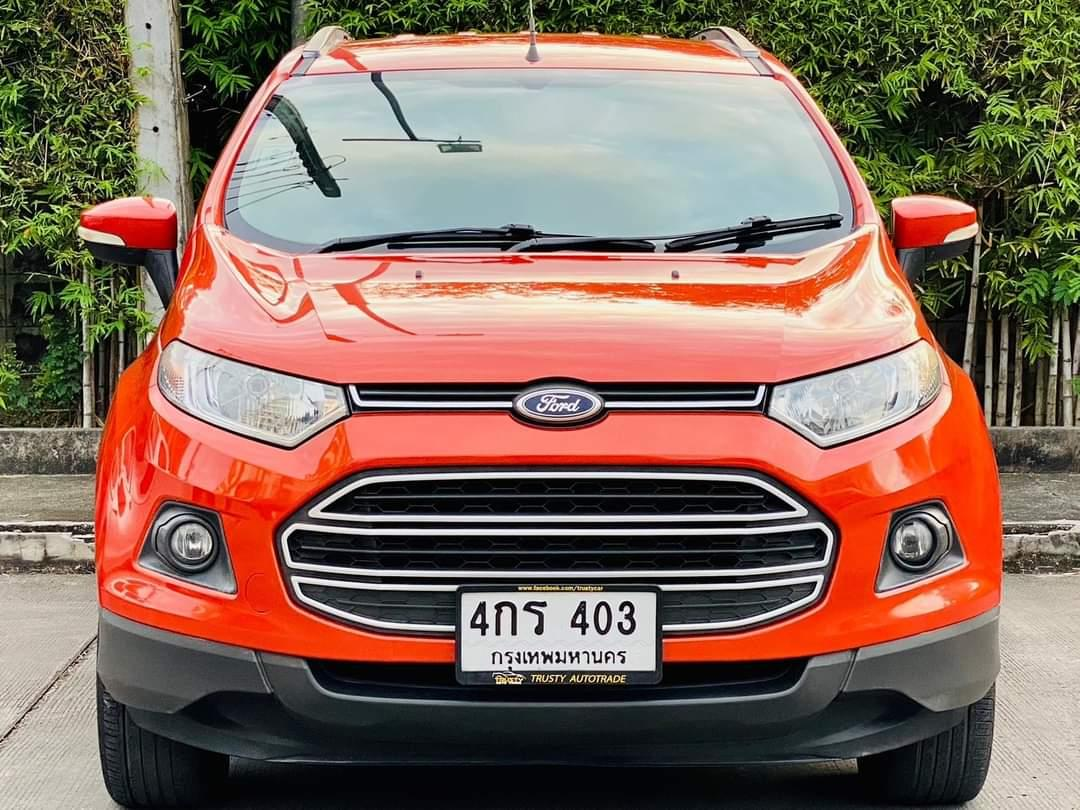license-plate: (448, 581, 665, 692)
